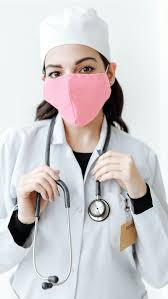Cap: (22, 5, 122, 60)
Mask: (33, 72, 113, 126)
Stethoscope: (28, 114, 109, 292)
White_coat: (1, 102, 168, 299)
